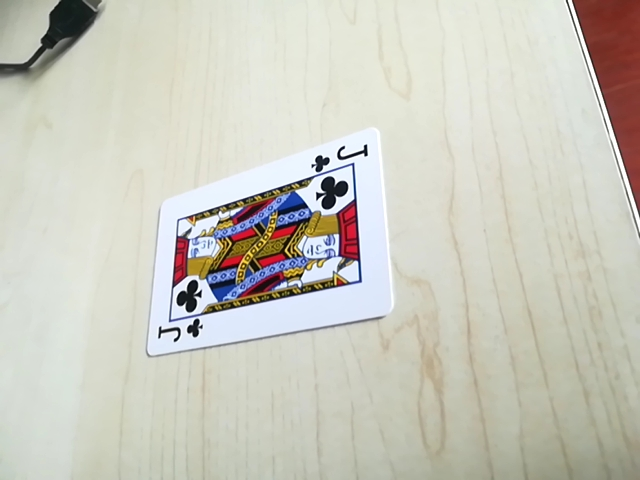mh j: (152, 314, 205, 351), (311, 145, 373, 175)
